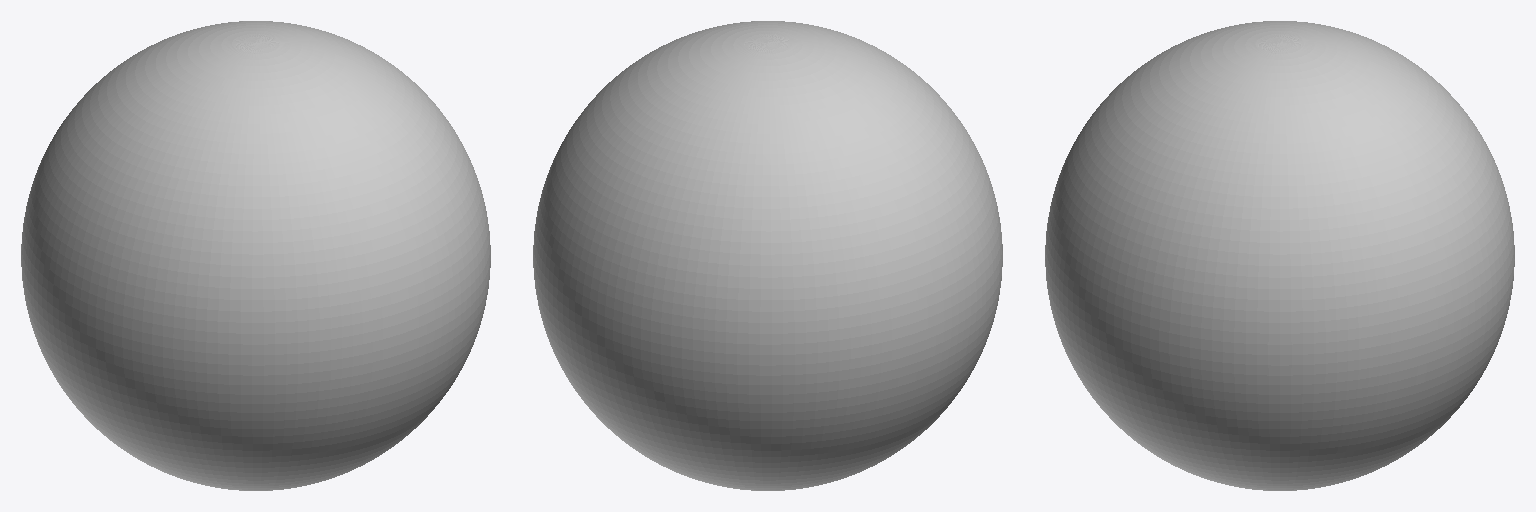
File: moon.obj
3 renders of one model, left to right at view 1: azimuth 30°, elevation 25°; view 2: azimuth 150°, elevation 25°; view 3: azimuth 270°, elevation 25°, orthographic.
Parts seen in each view (by area): view 1: moon; view 2: moon; view 3: moon.
Part boxes in pixels (x1,y1,x2,y2): moon: (21, 21, 490, 490); moon: (533, 21, 1002, 490); moon: (1045, 21, 1514, 490).
Bounding box in the file's own units: 1.99 × 2 × 1.99.